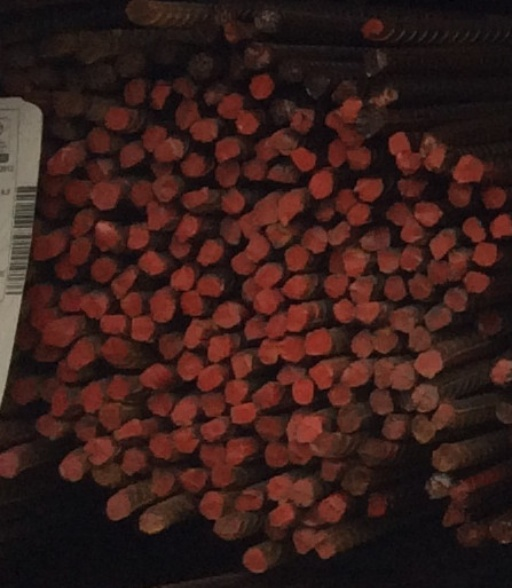dipstick: (40, 31, 75, 60), (92, 220, 120, 253), (28, 63, 66, 87), (88, 463, 123, 488), (453, 155, 482, 184), (113, 48, 142, 77), (68, 337, 94, 368), (149, 293, 176, 322), (38, 197, 67, 224), (85, 63, 114, 90), (414, 351, 444, 377), (139, 364, 169, 390), (179, 152, 209, 178), (197, 238, 222, 269), (83, 440, 115, 464), (125, 1, 158, 24), (255, 415, 283, 442), (100, 336, 127, 364), (430, 443, 456, 472), (309, 362, 335, 391), (206, 334, 232, 363), (111, 269, 137, 298), (92, 253, 118, 282), (214, 162, 244, 187), (183, 188, 214, 212), (105, 375, 132, 402), (48, 149, 75, 176), (408, 272, 434, 300), (129, 314, 155, 342), (90, 182, 116, 210), (198, 492, 223, 521), (211, 302, 240, 327), (147, 434, 172, 463), (308, 168, 333, 197), (42, 320, 71, 345), (151, 467, 175, 497), (360, 227, 391, 250), (105, 495, 132, 521), (172, 400, 198, 427), (32, 414, 59, 440), (156, 331, 182, 358), (121, 78, 148, 104), (253, 384, 281, 409), (306, 329, 331, 357), (355, 178, 383, 203), (282, 275, 310, 300), (274, 58, 302, 83), (66, 178, 91, 206), (358, 107, 382, 136), (455, 523, 484, 547), (267, 475, 291, 504), (177, 351, 200, 381), (79, 383, 102, 413), (48, 118, 78, 141), (184, 319, 206, 350), (281, 192, 303, 223), (318, 496, 344, 522), (256, 263, 282, 289), (254, 288, 280, 314), (58, 456, 84, 482), (245, 43, 271, 69), (253, 7, 279, 33), (187, 53, 213, 79), (10, 378, 36, 404), (424, 474, 449, 501), (342, 468, 367, 495), (293, 529, 320, 554), (172, 427, 197, 454), (178, 290, 203, 317), (199, 392, 227, 416), (87, 128, 111, 156), (86, 157, 114, 181), (69, 237, 93, 265), (58, 287, 82, 315), (32, 235, 56, 263), (147, 80, 169, 110), (52, 92, 82, 114), (176, 99, 197, 130), (471, 242, 497, 267), (390, 306, 415, 332), (263, 443, 288, 469), (225, 379, 251, 404), (414, 202, 441, 226), (413, 384, 437, 411), (284, 244, 308, 271), (148, 391, 172, 418), (100, 313, 127, 337), (218, 94, 245, 118), (151, 177, 178, 201), (80, 294, 104, 321), (341, 362, 369, 385), (291, 480, 314, 508), (114, 420, 142, 443), (397, 178, 429, 198), (268, 163, 300, 183), (364, 49, 386, 78), (268, 131, 297, 153), (190, 23, 219, 45), (461, 217, 486, 242), (373, 328, 398, 353), (330, 299, 355, 324), (179, 469, 204, 494), (120, 450, 145, 475), (424, 305, 450, 329), (298, 417, 322, 443), (281, 337, 305, 363), (326, 222, 352, 246), (302, 226, 326, 252), (138, 511, 164, 535), (55, 358, 79, 384), (256, 196, 280, 222), (220, 188, 244, 214), (292, 379, 315, 406), (197, 365, 220, 392), (200, 418, 227, 441), (249, 72, 272, 99), (130, 179, 152, 207), (28, 307, 56, 329), (490, 357, 511, 386), (481, 186, 506, 210), (443, 286, 467, 311), (370, 389, 394, 414), (380, 414, 404, 439), (314, 530, 334, 560), (287, 440, 311, 465), (50, 386, 70, 416), (197, 274, 221, 299), (168, 235, 193, 259), (173, 75, 198, 99), (104, 107, 129, 131), (155, 139, 179, 164), (52, 256, 77, 280), (387, 202, 413, 225), (374, 249, 400, 272), (383, 274, 406, 300), (213, 519, 239, 542), (230, 253, 256, 276), (142, 126, 165, 152), (71, 210, 94, 236), (78, 34, 101, 60), (358, 440, 380, 467), (231, 352, 253, 379), (199, 442, 226, 464), (100, 404, 122, 431), (172, 264, 194, 291), (218, 217, 240, 244), (270, 98, 291, 126), (178, 213, 199, 241), (351, 328, 371, 357), (1, 448, 18, 482), (448, 183, 472, 207), (427, 259, 451, 283), (478, 311, 502, 335), (391, 364, 415, 388), (324, 274, 348, 298), (243, 315, 267, 339), (429, 230, 452, 255), (365, 493, 388, 518), (242, 548, 267, 571), (267, 505, 292, 528), (210, 464, 233, 489), (304, 75, 329, 98), (329, 383, 351, 409), (147, 202, 169, 228), (190, 120, 216, 142), (153, 39, 175, 65), (373, 359, 392, 389), (413, 415, 434, 442), (490, 519, 511, 546), (401, 221, 424, 245), (408, 326, 432, 349), (350, 278, 373, 302), (345, 252, 368, 276), (75, 416, 98, 440), (139, 252, 163, 275), (292, 108, 315, 132), (120, 144, 143, 168), (464, 271, 489, 293), (399, 246, 421, 271), (337, 408, 359, 433), (346, 147, 371, 169), (293, 145, 315, 170), (355, 302, 381, 323), (278, 364, 304, 385), (215, 138, 241, 159), (235, 491, 262, 511), (286, 305, 306, 332), (27, 286, 54, 306), (284, 413, 303, 441), (228, 404, 256, 423), (40, 172, 63, 195), (347, 203, 371, 225), (39, 379, 61, 403), (246, 236, 268, 260), (243, 159, 265, 183), (126, 225, 148, 249), (397, 149, 418, 174), (33, 341, 58, 362), (432, 402, 451, 429), (263, 520, 286, 542), (234, 110, 256, 133), (221, 22, 244, 44), (259, 340, 280, 364), (267, 224, 288, 248), (225, 439, 245, 464), (267, 313, 287, 338), (122, 293, 143, 316), (314, 199, 334, 223), (336, 189, 355, 214), (342, 98, 361, 123), (148, 160, 174, 178), (342, 127, 364, 148), (322, 109, 343, 131), (334, 81, 356, 102), (256, 137, 277, 159), (203, 84, 225, 105), (490, 215, 510, 238), (330, 140, 347, 167), (301, 509, 325, 528), (329, 249, 347, 274), (360, 18, 382, 38), (448, 252, 463, 281), (425, 147, 442, 172), (443, 506, 464, 526), (387, 133, 409, 152), (450, 487, 469, 509), (419, 134, 436, 156), (314, 435, 331, 457), (496, 400, 512, 423), (241, 277, 256, 301), (383, 85, 398, 102)
